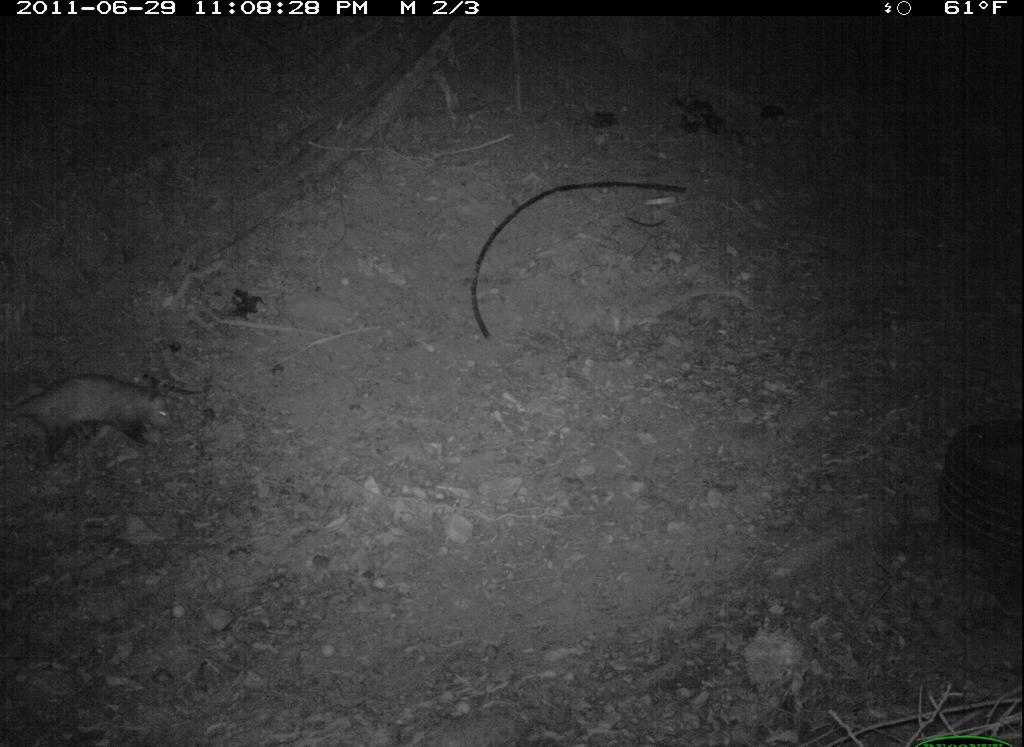opossum: (9, 372, 184, 474)
